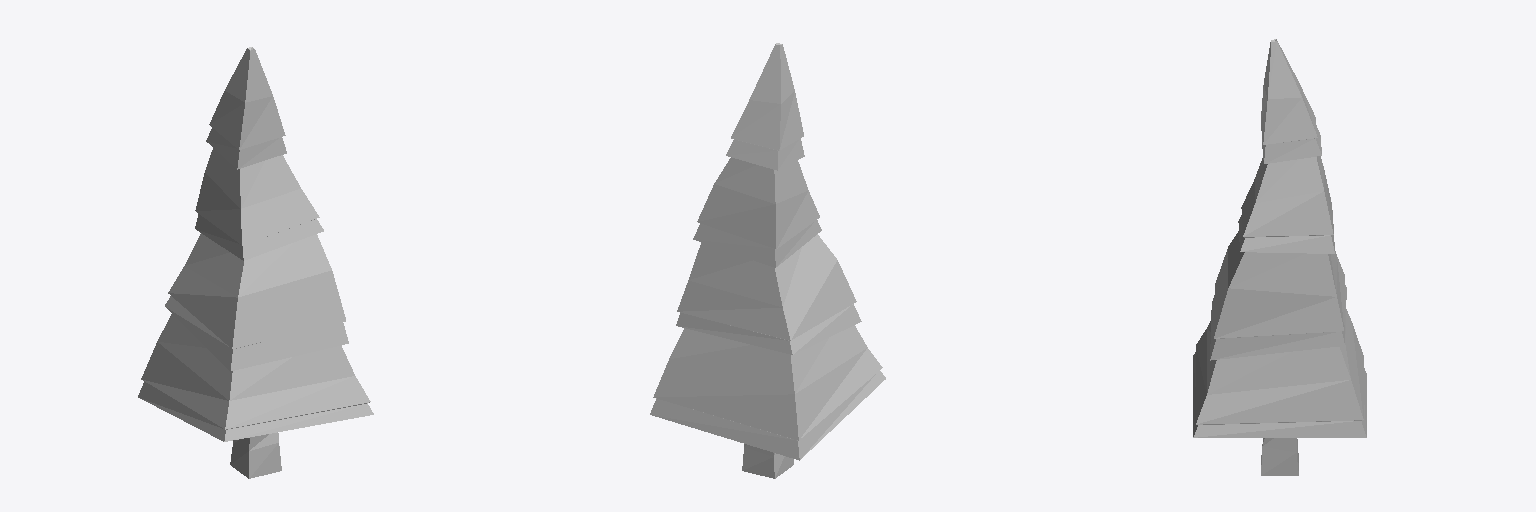
File: Snowy Tree 2.obj
3 renders of one model, left to right at view 1: azimuth 30°, elevation 25°; view 2: azimuth 150°, elevation 25°; view 3: azimuth 270°, elevation 25°, orthographic.
Visible parts, largest first — view 1: Tree_2_Cube.006; view 2: Tree_2_Cube.006; view 3: Tree_2_Cube.006.
Part boxes in pixels (x1,y1,x2,y2): Tree_2_Cube.006: (138, 47, 373, 478); Tree_2_Cube.006: (650, 43, 885, 478); Tree_2_Cube.006: (1193, 39, 1366, 475).
Bounding box in the file's own units: 2.4 × 6.49 × 2.4.